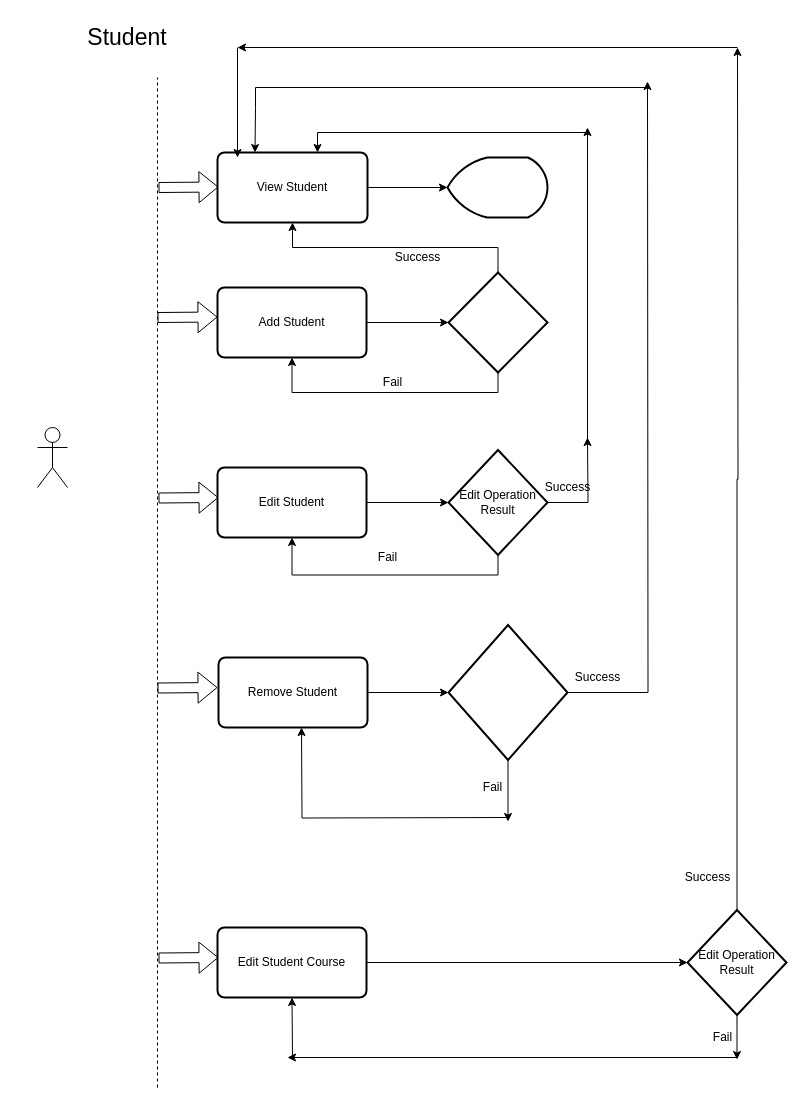
Some shapes in this 804 by 1106 pixel diagram are drawn without their labels. Each missing label, with the centre of its shape:
"Actor" belongs at pixel 52 457.
"Add Operation Result" belongs at pixel 497 322.
"Display Student" belongs at pixel 497 187.
"Remove Operation Result" belongs at pixel 507 692.
